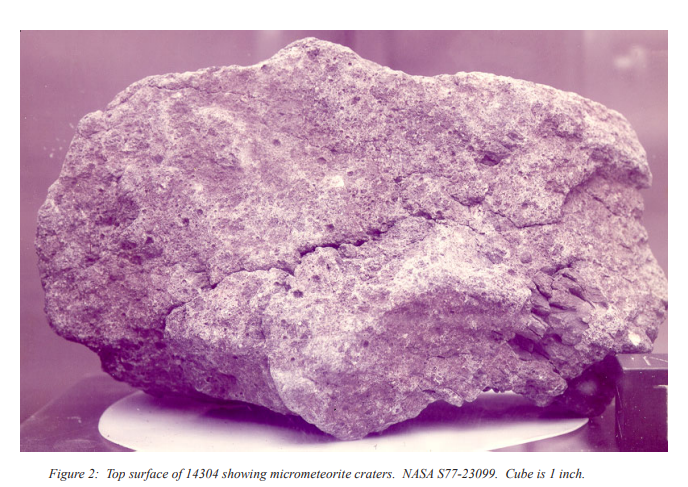Breccia: (46, 84, 658, 421), (190, 56, 567, 444), (561, 109, 665, 379), (37, 166, 117, 334)
